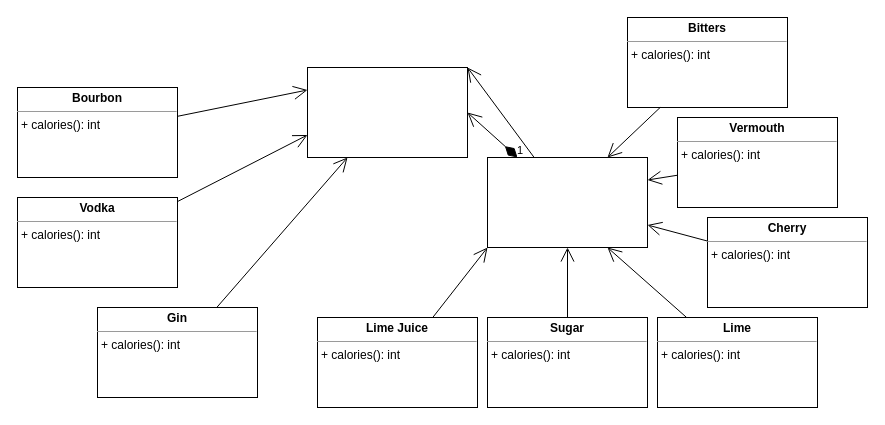
This 885x425 diagram has some shape labels left out. Here are the shapes that lost their labels. From the top down, the centre of each, then its label:
At (x=387, y=112): "LiquorComponent + calories(): int".
At (x=567, y=202): "IngredientDecorator + calories(): int".
